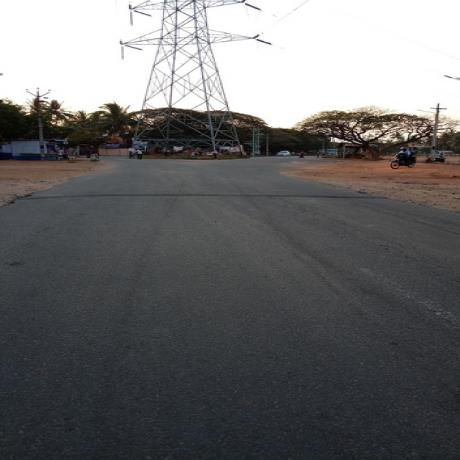Speed Bump: (12, 191, 391, 202)
